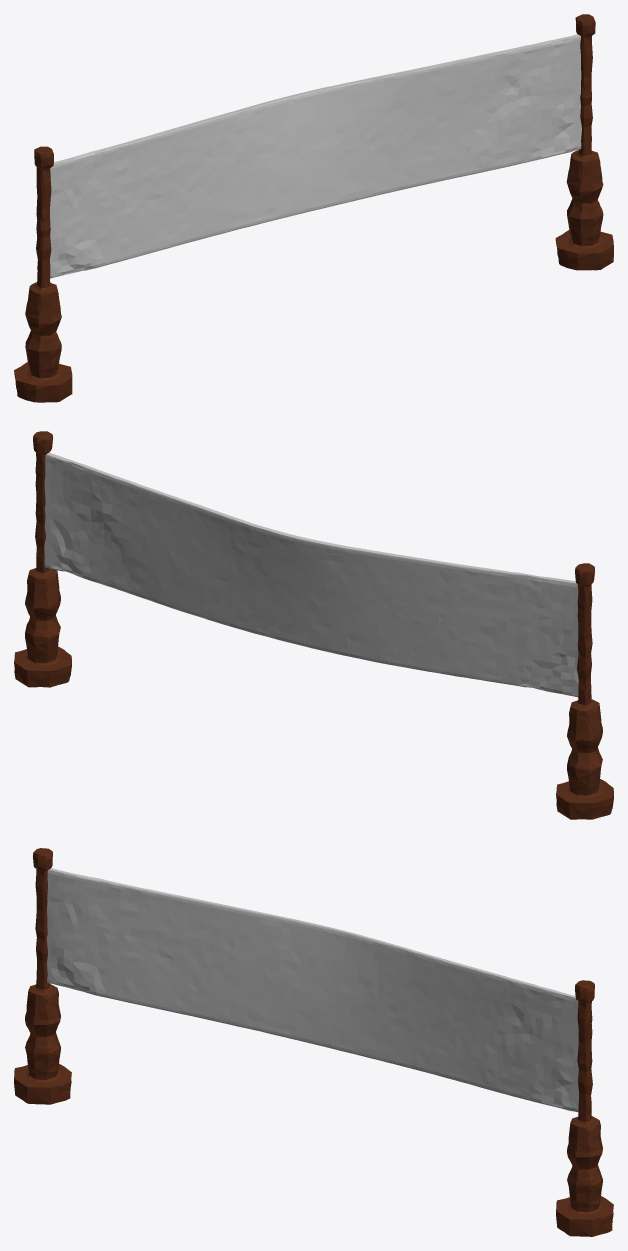
The model's file is DesertLandSnakeFlag0339.obj.
The picture shows the model from 3 angles, top to bottom: view 1: azimuth 30°, elevation 25°; view 2: azimuth 150°, elevation 25°; view 3: azimuth 330°, elevation 25°; orthographic projection.
Visible parts, largest first — view 1: Cube.003, Cube, Cube.002; view 2: Cube.003, Cube, Cube.002; view 3: Cube.003, Cube.002, Cube.
Part boxes in pixels (<box>): Cube.003: <box>50,34,581,278</box>; Cube: <box>14,146,72,402</box>; Cube.002: <box>555,14,613,270</box>; Cube.003: <box>44,452,578,697</box>; Cube: <box>556,563,613,819</box>; Cube.002: <box>14,431,71,687</box>; Cube.003: <box>46,868,578,1112</box>; Cube.002: <box>556,980,613,1236</box>; Cube: <box>14,848,71,1104</box>.
Bounding box in the file's own units: 27.57 × 10.7 × 2.77.
